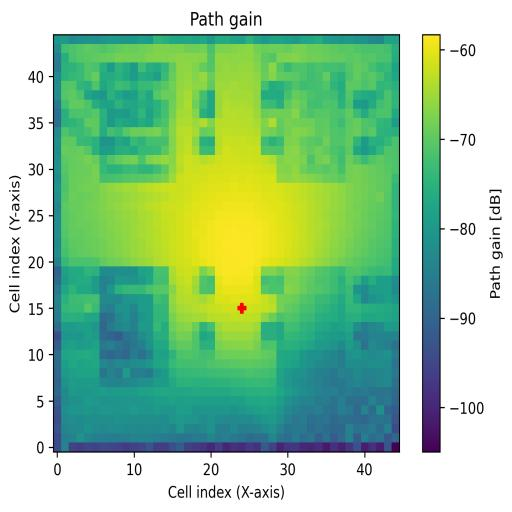Concrete: (277, 62, 346, 184)
Glass: (99, 62, 176, 183)
Metal: (262, 268, 347, 388)
Wood: (100, 268, 169, 388)
